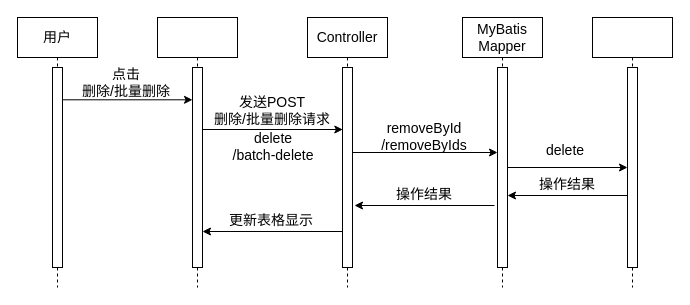
The diagram is 690 pixels wide and 305 high, and some of its shapes have lost their labels. The box of each missing label's shape, as (x1, y1, x2, y2) in pixels:
MySQL 数据库: (592, 16, 672, 288)
前端界面: (156, 16, 238, 288)
